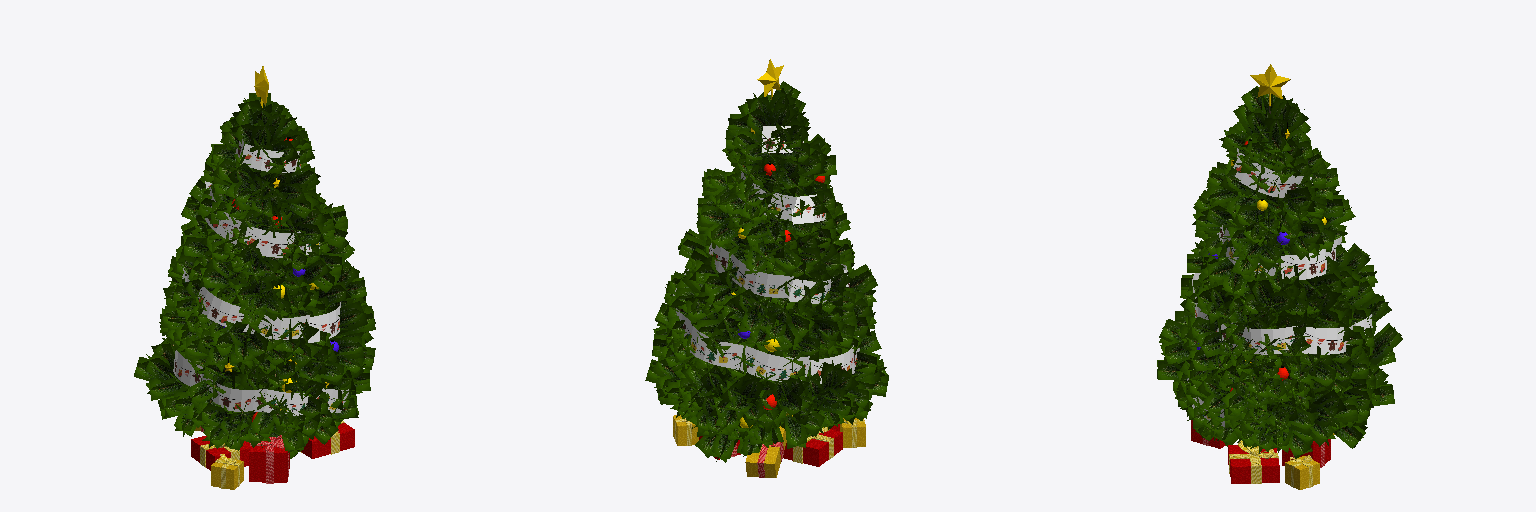
The picture shows the model from 3 angles: view 1: azimuth 30°, elevation 25°; view 2: azimuth 150°, elevation 25°; view 3: azimuth 270°, elevation 25°; orthographic projection.
Parts seen in each view (by area): view 1: Material__55, UniqueID_15, Material__57; view 2: Material__55, UniqueID_15, Material__57; view 3: Material__55, UniqueID_15, Material__57.
Boxes of the visible parts, <box> form: Material__55: <box>134,93,375,458</box>; UniqueID_15: <box>191,99,354,489</box>; Material__57: <box>203,66,329,466</box>; Material__55: <box>645,81,888,462</box>; UniqueID_15: <box>673,88,865,477</box>; Material__57: <box>678,59,859,441</box>; Material__55: <box>1157,86,1402,458</box>; UniqueID_15: <box>1191,93,1334,489</box>; Material__57: <box>1231,64,1311,465</box>.
Bounding box in the file's own units: 83.19 × 151 × 87.12.
Materials: 3 (2 with a texture image).